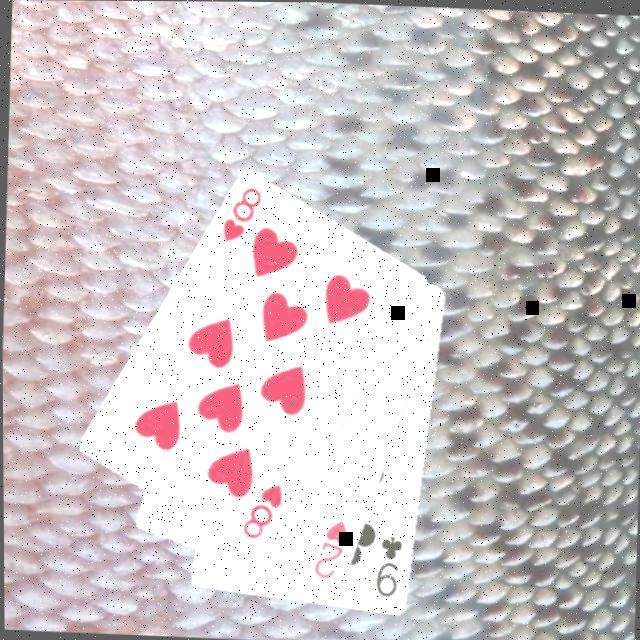2H: (309, 515, 351, 582)
8H: (238, 478, 286, 543), (219, 181, 266, 246)
9C: (372, 530, 406, 599)
